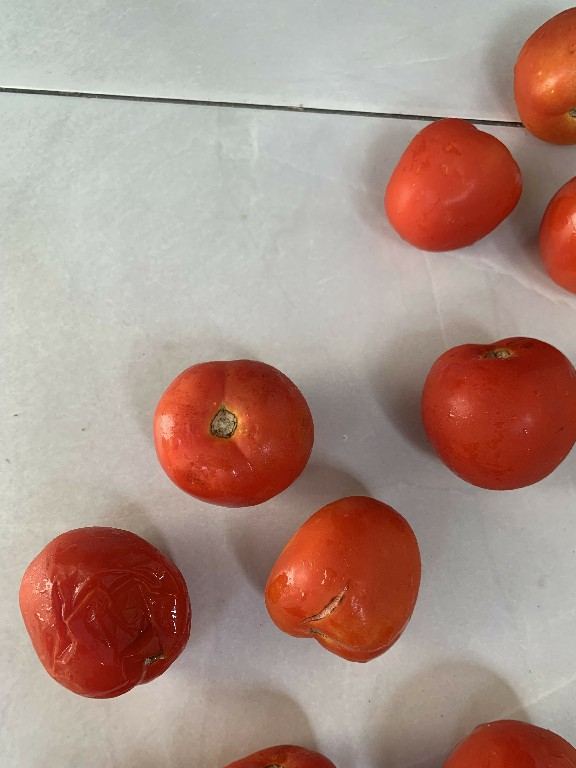NG: (14, 525, 195, 701), (260, 493, 426, 669)
OK: (410, 333, 575, 494), (144, 353, 314, 508), (378, 113, 521, 255)
